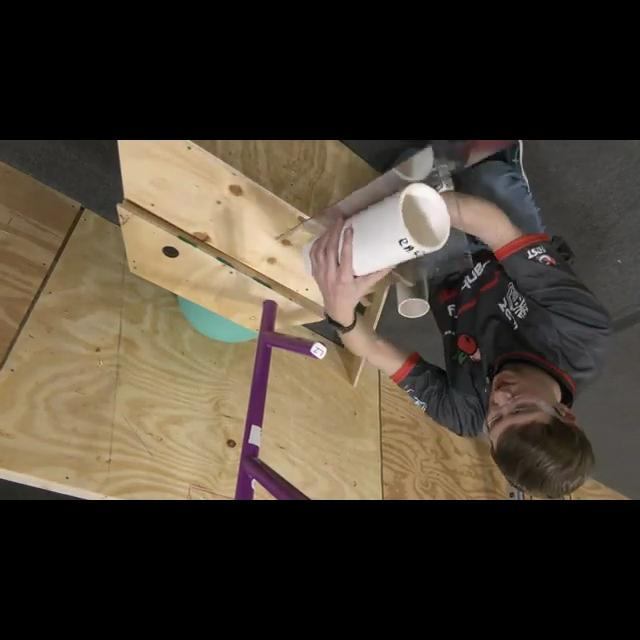CORAL: (304, 184, 451, 284), (396, 269, 428, 319)
